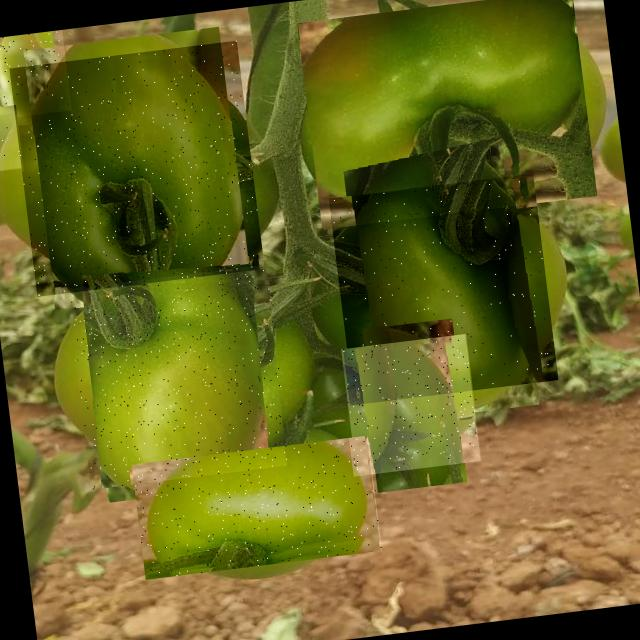Unripe Tomato: (296, 0, 596, 229), (9, 40, 264, 296), (328, 173, 558, 405), (67, 264, 290, 489), (132, 435, 384, 579), (341, 333, 484, 476), (0, 29, 71, 119), (0, 105, 23, 176)
